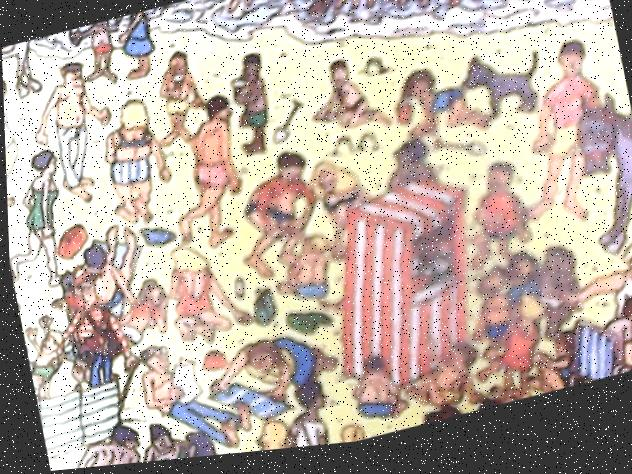waldo: (70, 266, 105, 314)
